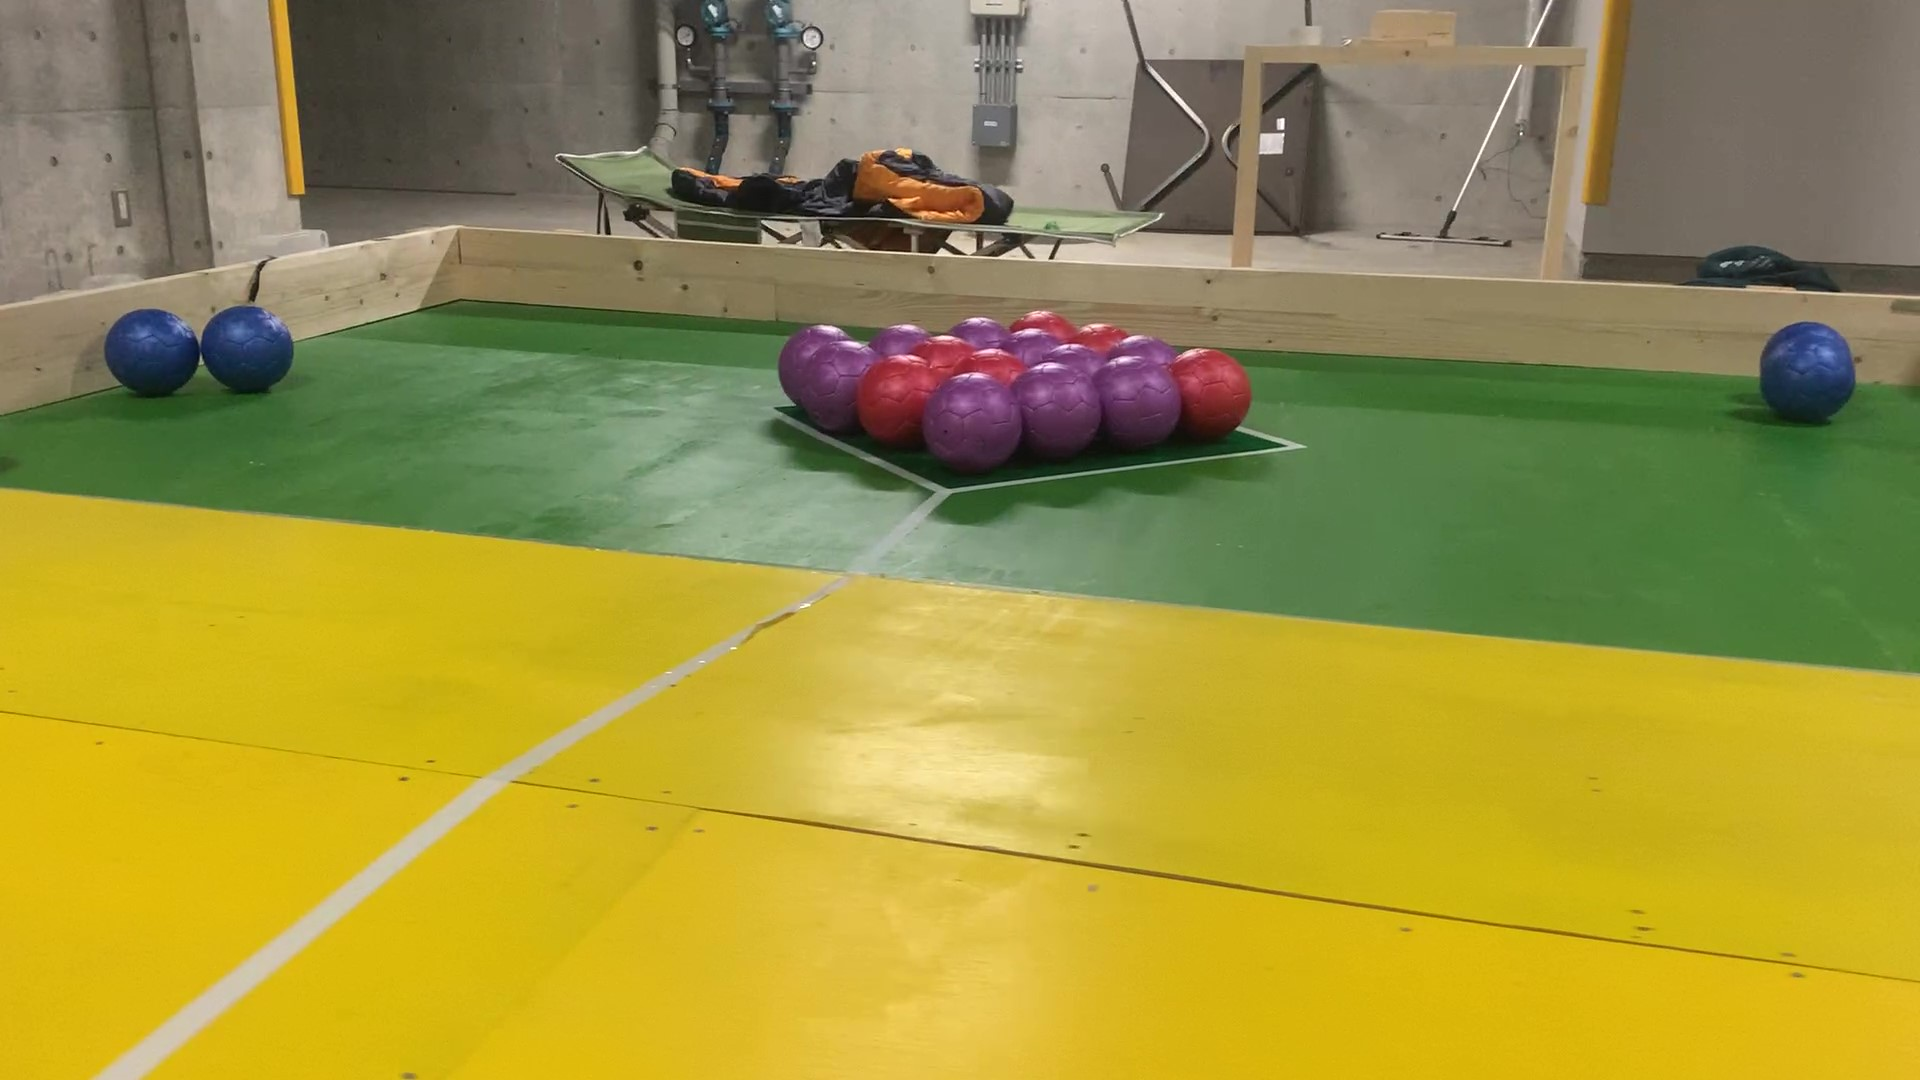blue: (207, 311, 286, 385), (1768, 345, 1844, 414), (116, 322, 185, 390), (1774, 318, 1836, 338)
purple: (1013, 375, 1095, 450), (939, 386, 1006, 458), (1106, 367, 1175, 434), (815, 349, 864, 433), (864, 324, 930, 349), (785, 338, 808, 405), (952, 314, 1002, 344), (1048, 347, 1098, 371), (1009, 336, 1058, 360), (1124, 335, 1180, 353)
red: (1182, 352, 1247, 440), (866, 367, 926, 443), (920, 339, 965, 368), (967, 353, 1015, 378), (1080, 320, 1117, 351), (1014, 310, 1065, 330)
